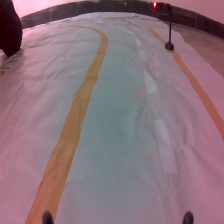red: (150, 1, 176, 54)
